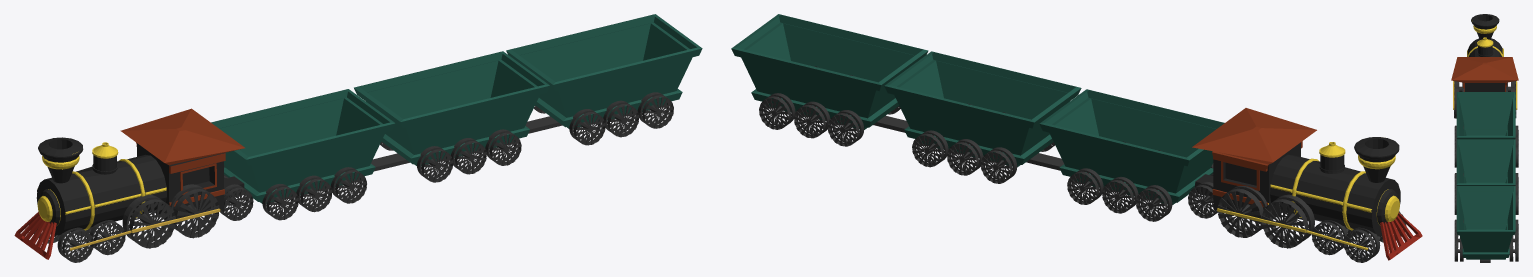
File: Train.fbx
3 renders of one model, left to right at view 1: azimuth 30°, elevation 25°; view 2: azimuth 150°, elevation 25°; view 3: azimuth 270°, elevation 25°, orthographic. The views are drawn at different scales.
Parts seen in each view (by area): view 1: Cube.017; view 2: Cube.017; view 3: Cube.017.
Boxes of the visible parts, <box> form: Cube.017: <box>14,14,702,262</box>; Cube.017: <box>731,14,1422,262</box>; Cube.017: <box>1451,14,1518,262</box>.
Bounding box in the file's own units: 2006 × 315 × 289.
